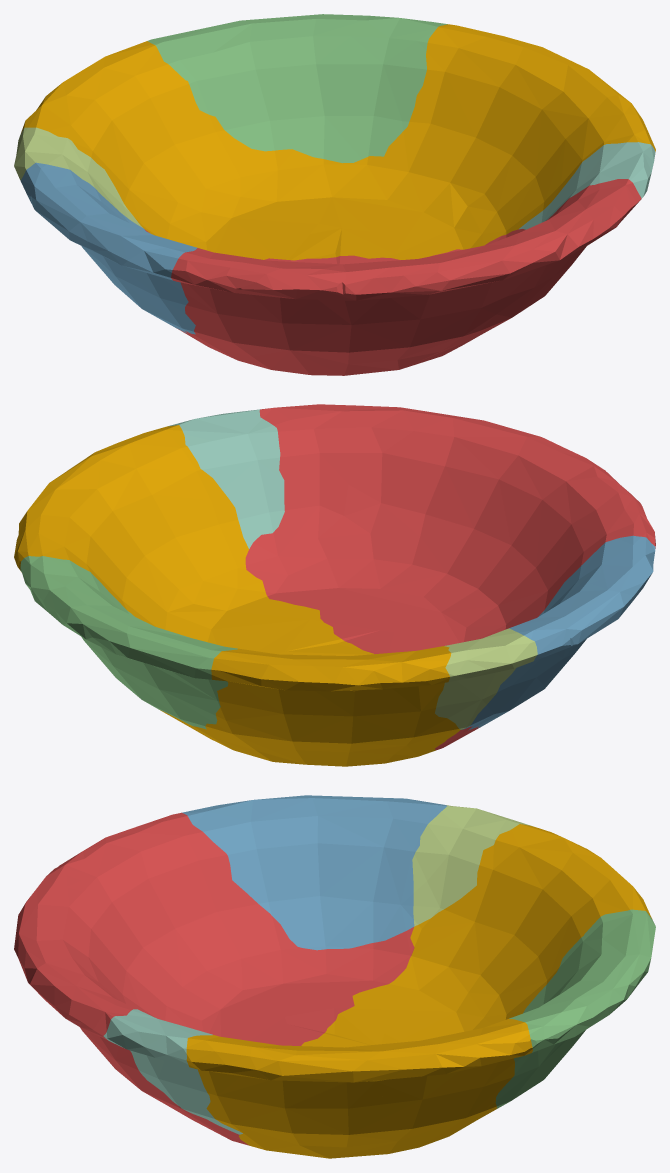
The model's file is fractured_71_6pcs.glb.
3 renders of one model, top to bottom at view 1: azimuth 30°, elevation 25°; view 2: azimuth 150°, elevation 25°; view 3: azimuth 270°, elevation 25°, orthographic.
Visible parts, largest first — view 1: piece_0.obj, piece_1.obj, piece_3.obj, piece_2.obj, piece_4.obj, piece_5.obj; view 2: piece_1.obj, piece_0.obj, piece_3.obj, piece_2.obj, piece_4.obj, piece_5.obj; view 3: piece_0.obj, piece_1.obj, piece_2.obj, piece_3.obj, piece_5.obj, piece_4.obj.
Part boxes in pixels (x1,y1,x2,y2): piece_0.obj: (21,24,655,260); piece_1.obj: (144,179,641,375); piece_3.obj: (147,14,447,163); piece_2.obj: (20,162,197,334); piece_4.obj: (519,142,655,246); piece_5.obj: (14,127,142,227); piece_1.obj: (245,404,655,750); piece_0.obj: (14,425,460,766); piece_3.obj: (20,556,237,729); piece_2.obj: (461,535,655,730); piece_4.obj: (168,409,284,548); piece_5.obj: (435,628,537,729); piece_0.obj: (186,824,651,1158); piece_1.obj: (14,812,414,1145); piece_2.obj: (182,795,447,950); piece_3.obj: (495,909,655,1108); piece_5.obj: (412,805,533,926); piece_4.obj: (103,1009,242,1134).
Bounding box in the file's own units: 0.9996 × 0.3059 × 1.
